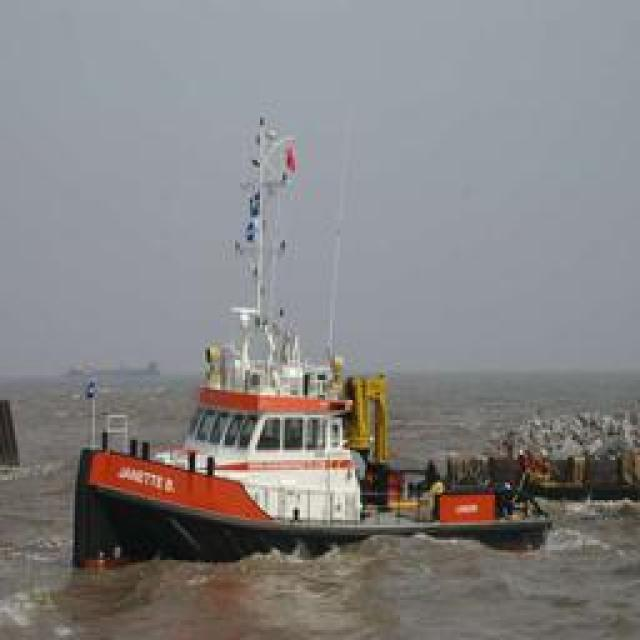CIV_Ship: (66, 225, 562, 550)
